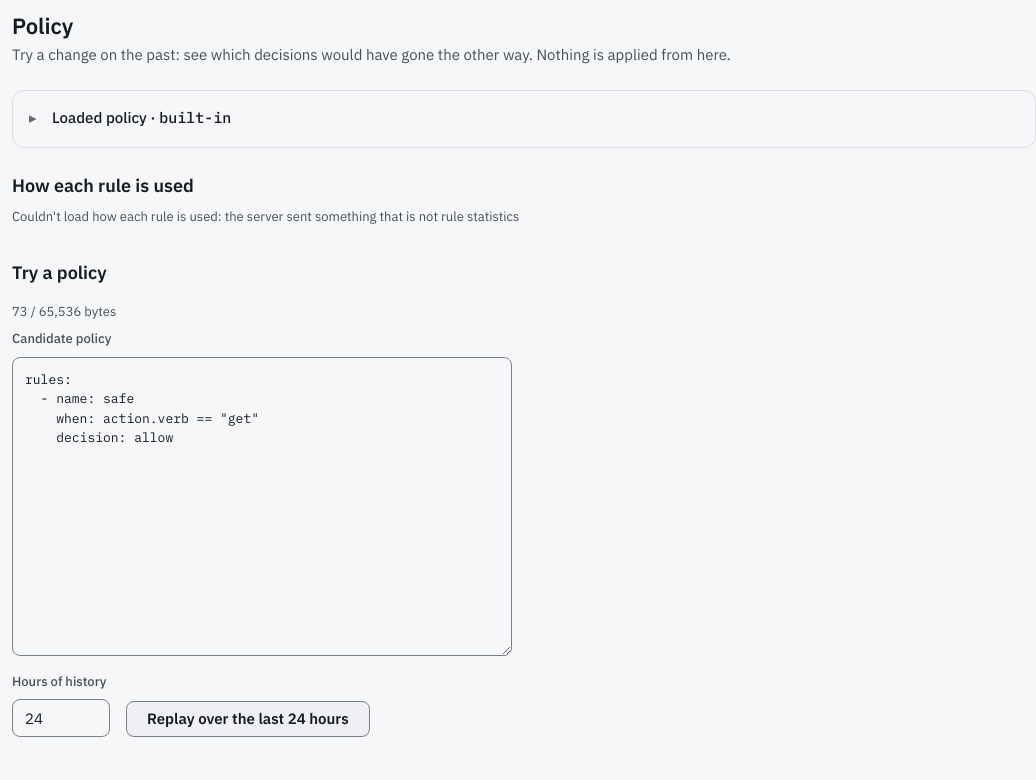
Test case: Policy › decisions read in plain words, and an unrecognised one shows raw
Expected: the text "built-in" is shown, [159, 108, 231, 127]
Click the button "Replay over the last 24 hours".
click(248, 719)  # box [126, 701, 370, 737]
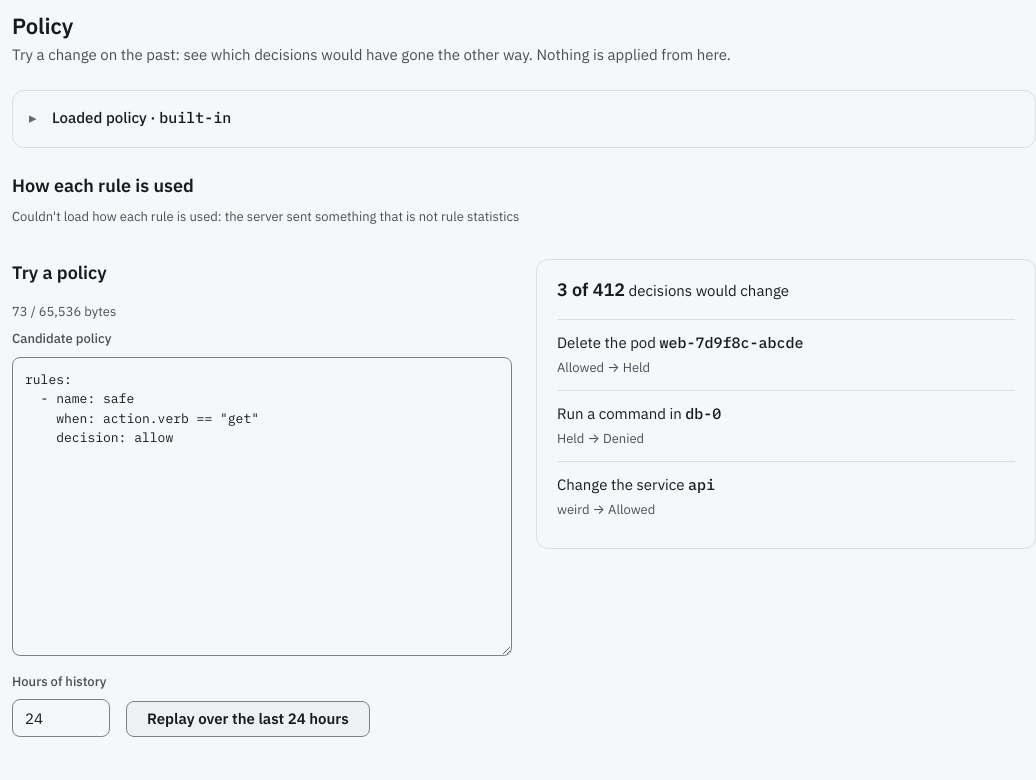
Result: the text "3 of 412" is shown at [557, 278, 625, 300]
Result: the text "decisions would change" is shown at [629, 280, 789, 300]
Result: the message reads "3 of 412 decisions would change" at [557, 278, 789, 300]
